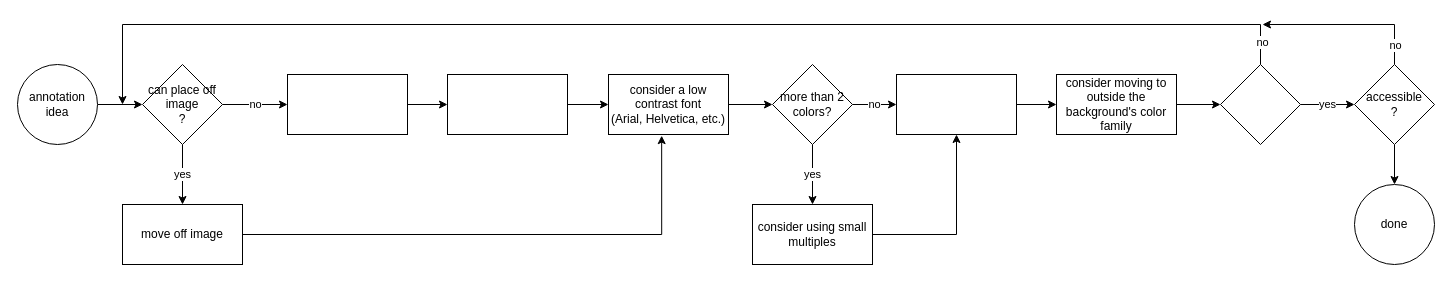
This 1452x282 diagram has some shape labels left out. Each missing label, with the centre of its shape:
"annotation clear ?" goes at pixel 1260 104.
"ensure annotation features have a scale different from mottled features" goes at pixel 507 104.
"try drop shadows" goes at pixel 347 104.
"use lighter colors as minority species" goes at pixel 956 104.
